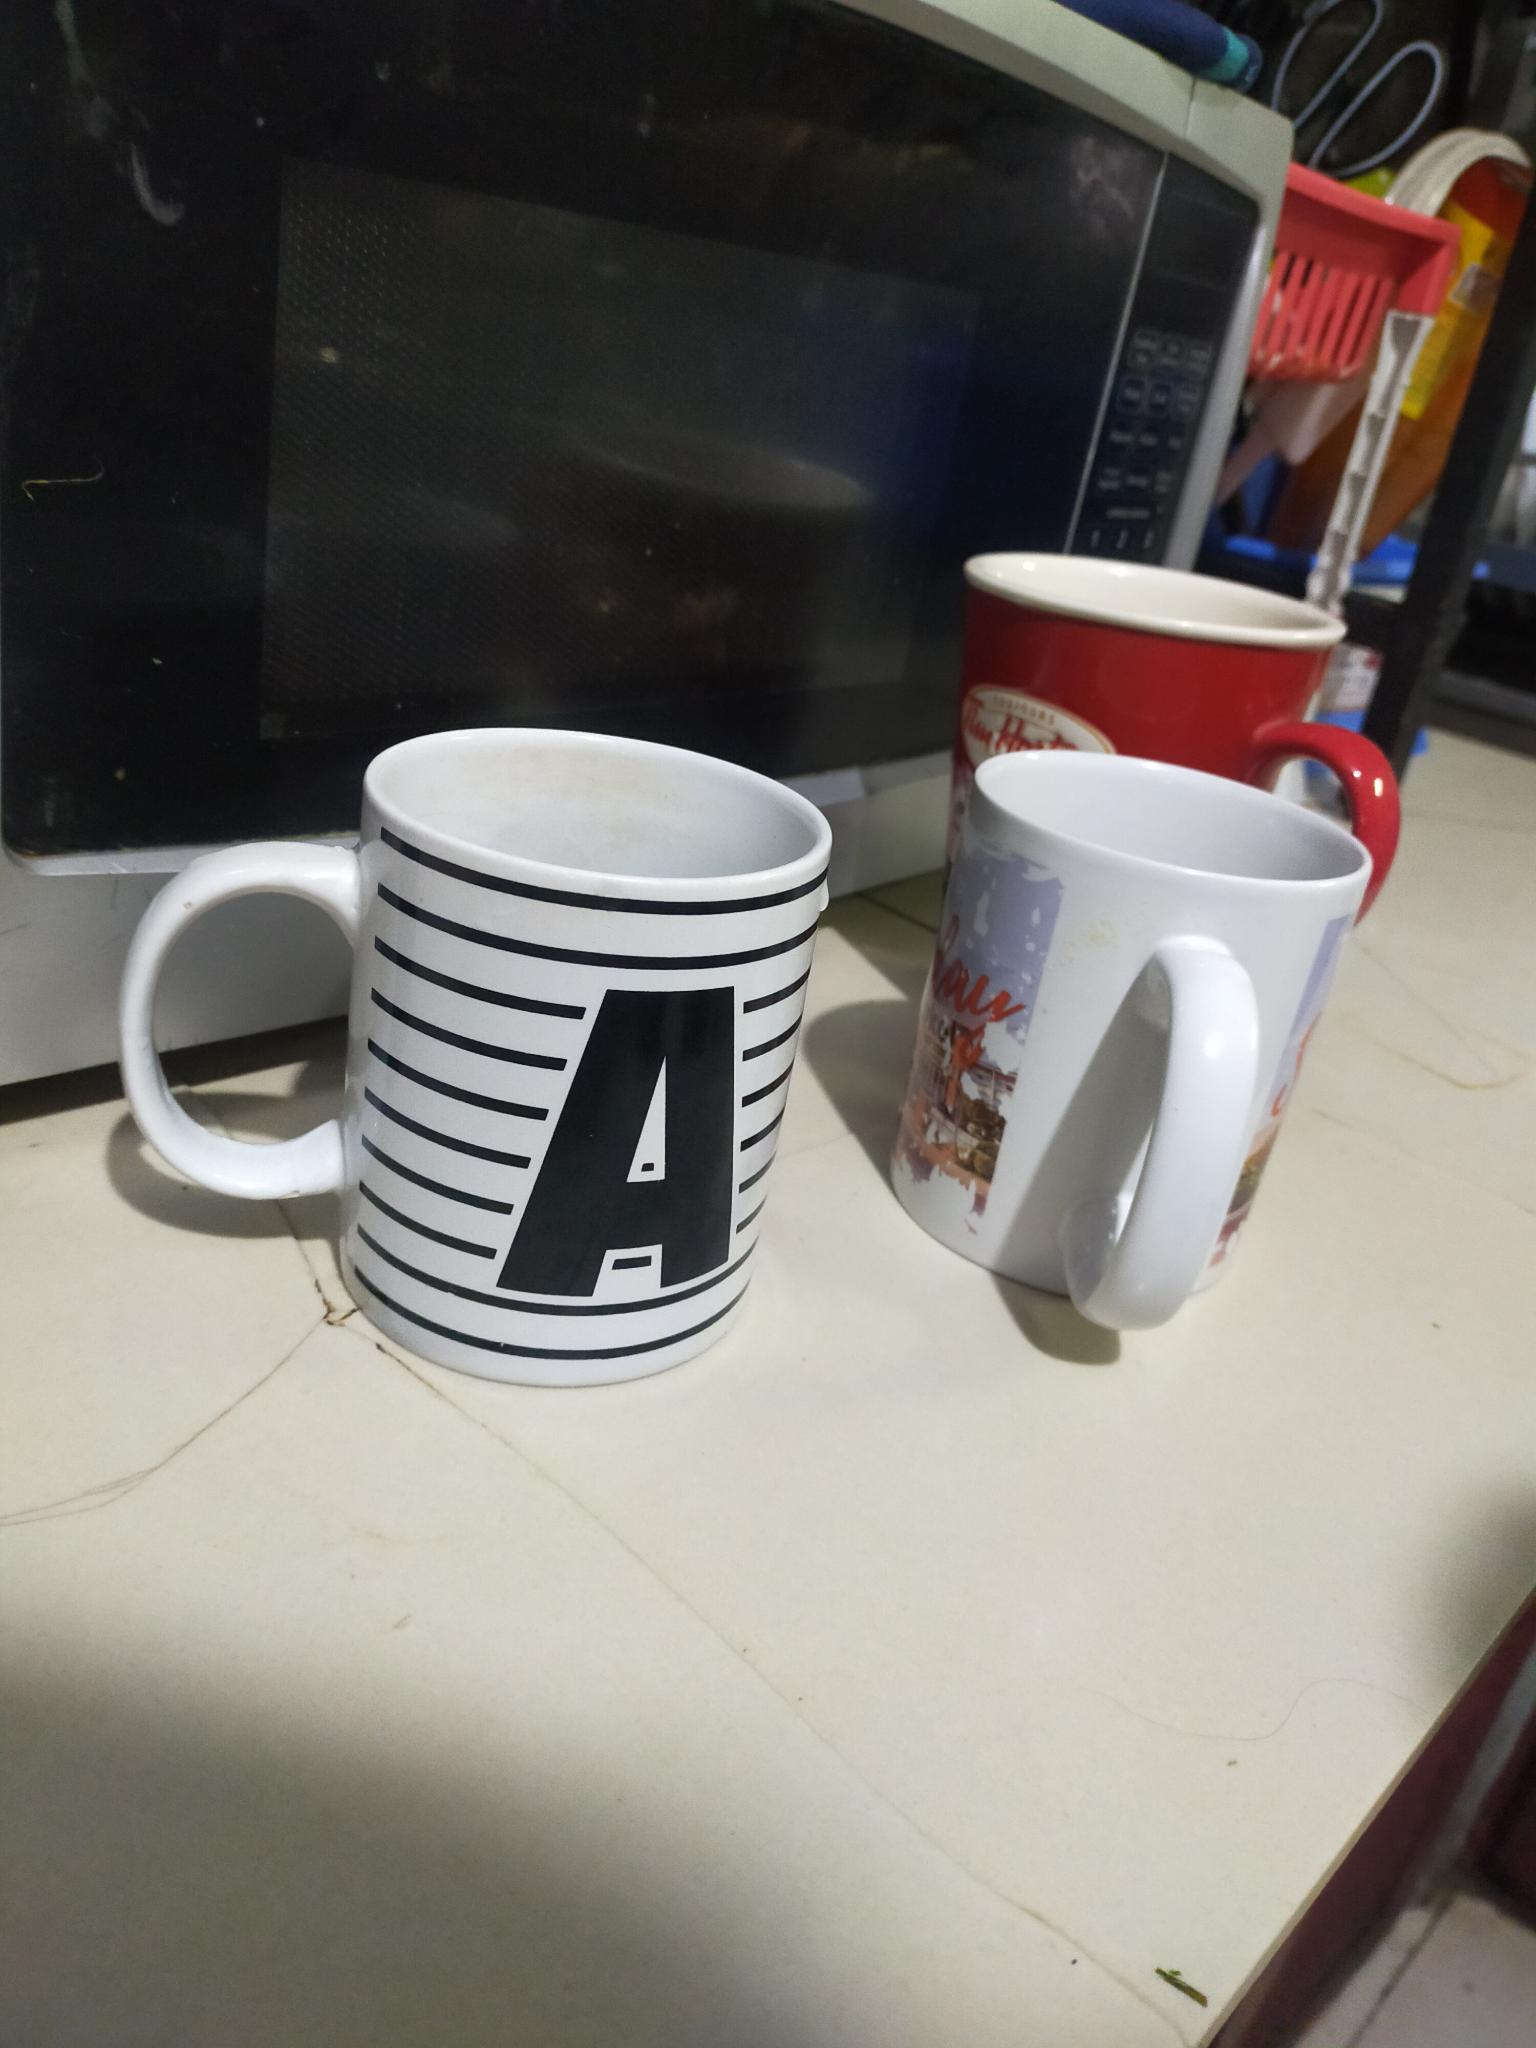Coffee Mug: (123, 727, 837, 1379), (884, 755, 1383, 1334), (957, 556, 1392, 922)
